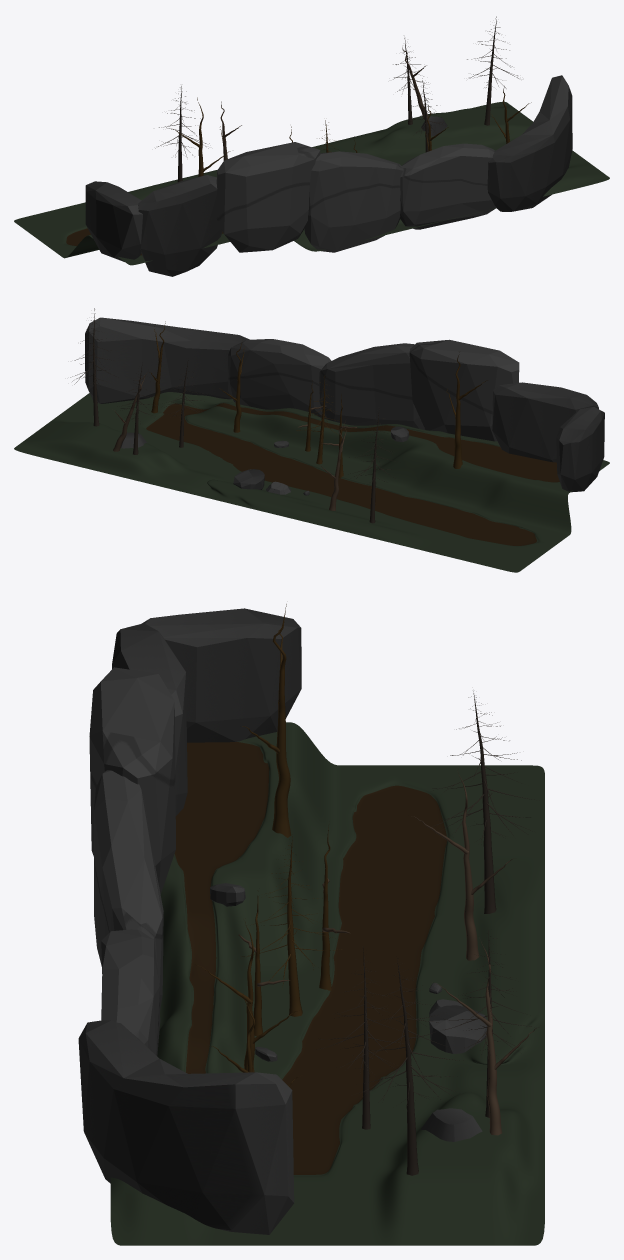
The model's file is bg_mec1.fbx.
The picture shows the model from 3 angles, top to bottom: view 1: azimuth 30°, elevation 25°; view 2: azimuth 150°, elevation 25°; view 3: azimuth 270°, elevation 25°; orthographic projection. The views are drawn at different scales.
Visible parts, largest first — view 1: ระนาบ.048, ลูกบาศก์.022, ลูกบาศก์.023, ลูกบาศก์.033, ลูกบาศก์.024, ลูกบาศก์.048, ลูกบาศก์.032, tree.036, tree.032, tree.031, tree.028; view 2: ระนาบ.048, ลูกบาศก์.033, ลูกบาศก์.022, ลูกบาศก์.023, ลูกบาศก์.024, ลูกบาศก์.048, ลูกบาศก์.032, tree.028, tree.032, tree.036, ลูกบาศก์.026, tree.029 (+5 smaller); view 3: ระนาบ.048, ลูกบาศก์.033, ลูกบาศก์.032, ลูกบาศก์.022, ลูกบาศก์.023, ลูกบาศก์.024, ลูกบาศก์.048, tree.032, tree.036, ลูกบาศก์.026, tree.028, tree.029 (+7 smaller).
Boxes of the visible parts, box(x1,y1,x2,y2) form: ระนาบ.048: box(14, 101, 609, 265); ลูกบาศก์.022: box(216, 142, 320, 252); ลูกบาศก์.023: box(304, 151, 403, 252); ลูกบาศก์.033: box(487, 75, 572, 211); ลูกบาศก์.024: box(400, 143, 495, 229); ลูกบาศก์.048: box(138, 175, 222, 276); ลูกบาศก์.032: box(85, 181, 142, 261); tree.036: box(467, 16, 518, 125); tree.032: box(155, 86, 209, 182); tree.031: box(393, 38, 428, 124); tree.028: box(171, 97, 230, 176); ระนาบ.048: box(14, 392, 609, 572); ลูกบาศก์.033: box(85, 317, 249, 403); ลูกบาศก์.022: box(409, 339, 519, 441); ลูกบาศก์.023: box(319, 343, 425, 429); ลูกบาศก์.024: box(228, 339, 331, 417); ลูกบาศก์.048: box(492, 382, 598, 462); ลูกบาศก์.032: box(556, 407, 604, 492); tree.028: box(446, 352, 487, 468); tree.032: box(348, 408, 400, 523); tree.036: box(70, 308, 117, 426); ลูกบาศก์.026: box(233, 469, 264, 489); tree.029: box(296, 375, 339, 464); ระนาบ.048: box(110, 722, 544, 1245); ลูกบาศก์.033: box(78, 1020, 294, 1234); ลูกบาศก์.032: box(141, 608, 301, 742); ลูกบาศก์.022: box(89, 667, 175, 893); ลูกบาศก์.023: box(94, 770, 163, 1010); ลูกบาศก์.024: box(101, 929, 160, 1055); ลูกบาศก์.048: box(112, 623, 187, 815); tree.032: box(431, 691, 539, 913); tree.036: box(352, 958, 463, 1175); ลูกบาศก์.026: box(429, 1005, 487, 1053); tree.028: box(242, 604, 291, 837); tree.029: box(241, 836, 342, 1016).
Bounding box in the file's own units: 228 × 165 × 554.
8 materials, 3 textured.
